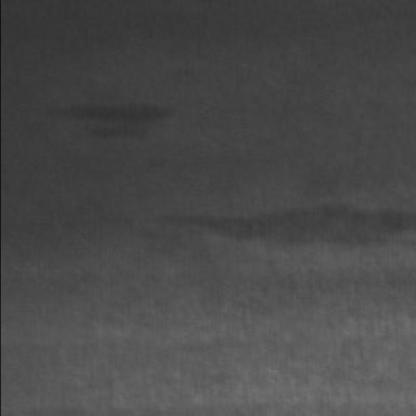inclusion: (149, 193, 416, 262), (44, 92, 191, 154)
